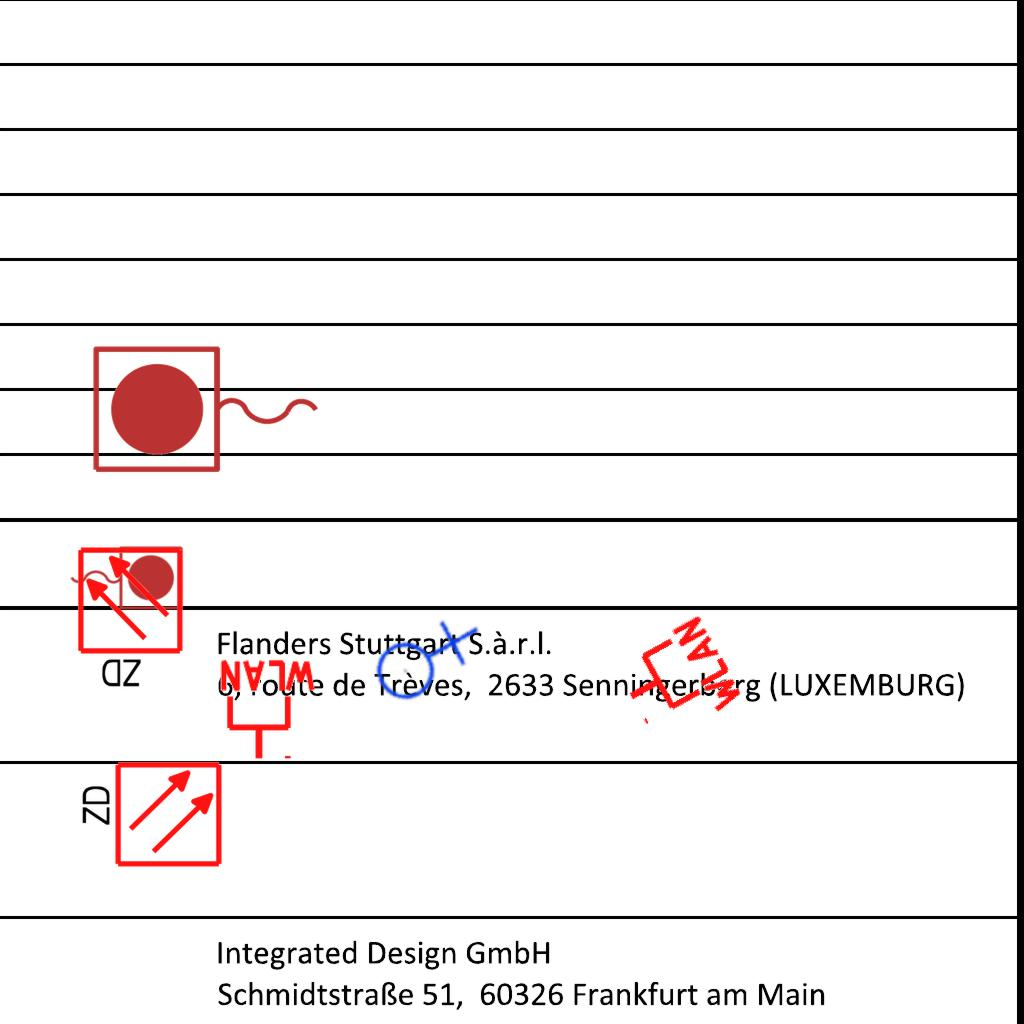Elektroanschluss_allgemein_230V_Geraeteanschlussdose_230V: (362, 599, 481, 715)
WLAN: (606, 610, 749, 752), (216, 658, 320, 763)
ZD_Melder_in_Zwischendecke_mit_Revisionsoeffnung_mind_40_x_40_cm: (75, 759, 224, 873), (75, 545, 189, 694)
Zugtaster: (85, 339, 329, 483), (65, 541, 187, 613)
